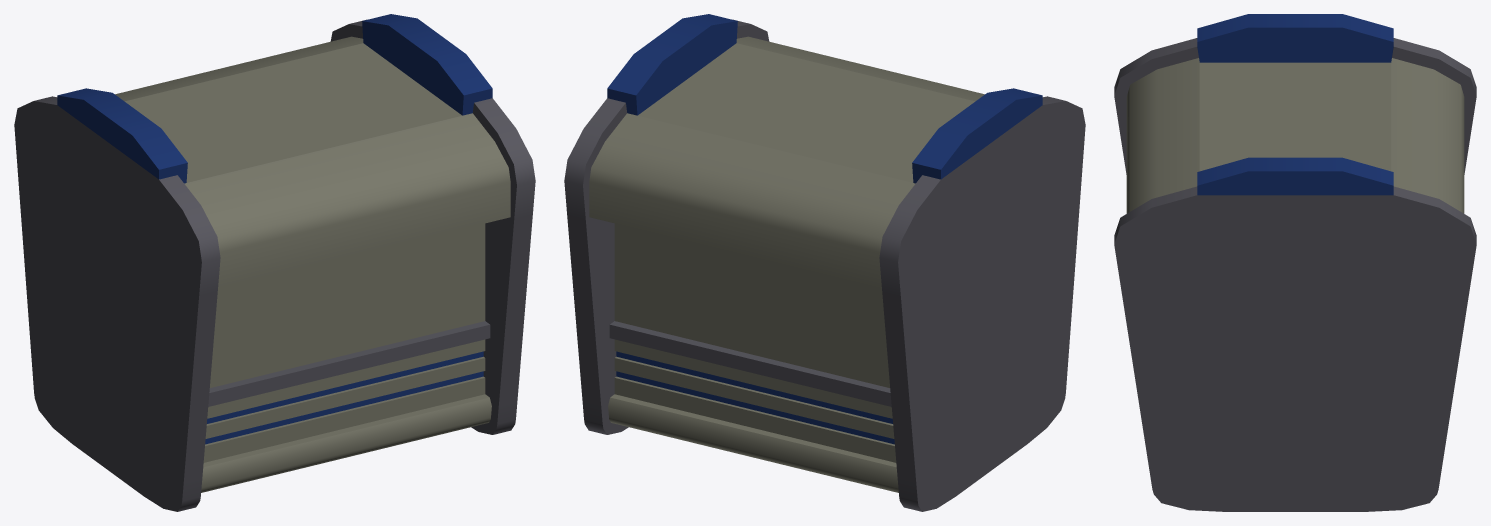
Rendered from LPSciFi_DoorwayShortNoWindows.fbx.
3 renders of one model, left to right at view 1: azimuth 30°, elevation 25°; view 2: azimuth 150°, elevation 25°; view 3: azimuth 270°, elevation 25°, orthographic. The views are drawn at different scales.
Parts seen in each view (by area): view 1: DoorwayShortNoWindows; view 2: DoorwayShortNoWindows; view 3: DoorwayShortNoWindows.
Part boxes in pixels (left/top/right/bottom): DoorwayShortNoWindows: left=14, top=14, right=535, bottom=511; DoorwayShortNoWindows: left=564, top=14, right=1085, bottom=511; DoorwayShortNoWindows: left=1114, top=14, right=1476, bottom=511.
Size of the model in its own units: 400 by 404 by 390.
